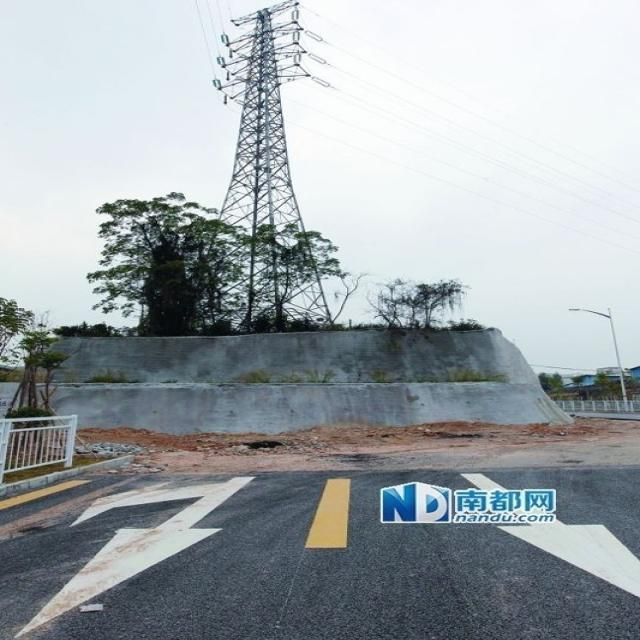non-critical vegetation: (196, 3, 324, 326)
